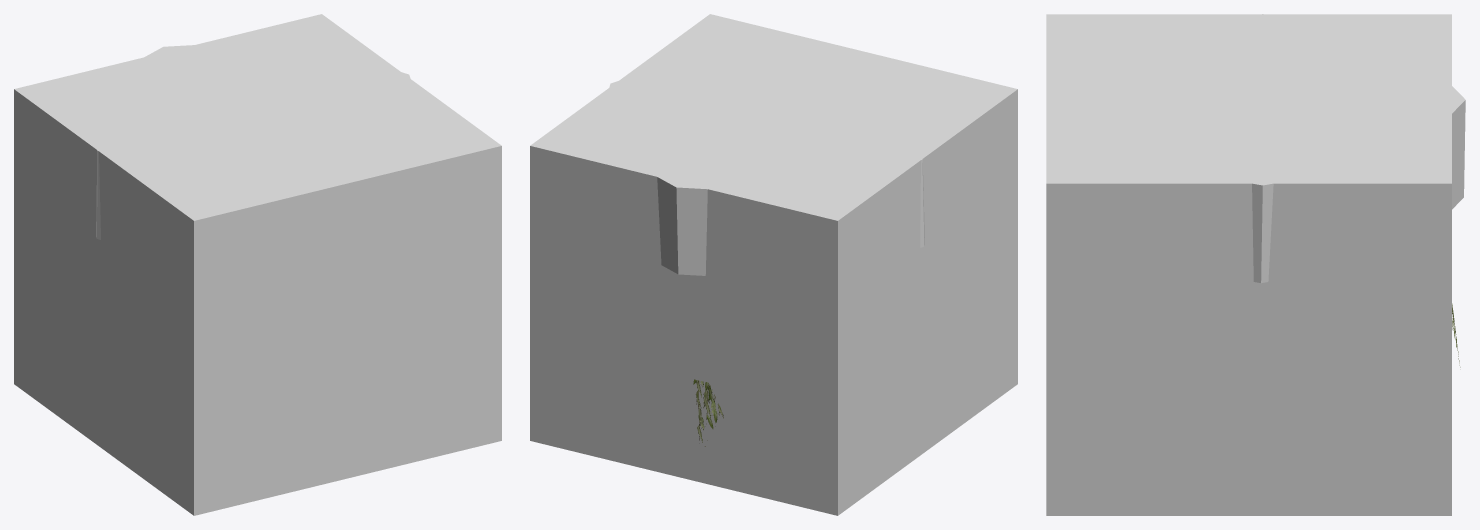
The model's file is willow01.dae.
3 renders of one model, left to right at view 1: azimuth 30°, elevation 25°; view 2: azimuth 150°, elevation 25°; view 3: azimuth 270°, elevation 25°, orthographic. The views are drawn at different scales.
Parts seen in each view (by area): view 1: bounds, col_1; view 2: bounds, col_1, leaf20d100; view 3: bounds, col_1.
Boxes of the visible parts, x1,y1,x2,y2 form: bounds: [14, 14, 501, 515]; col_1: [79, 39, 426, 239]; bounds: [530, 14, 1017, 515]; col_1: [595, 48, 940, 275]; leaf20d100: [693, 379, 723, 446]; bounds: [1046, 14, 1451, 515]; col_1: [1060, 14, 1465, 283].
Bounding box in the file's own units: 8.87 × 9.13 × 8.24.
Materials: 2 (2 with a texture image).
